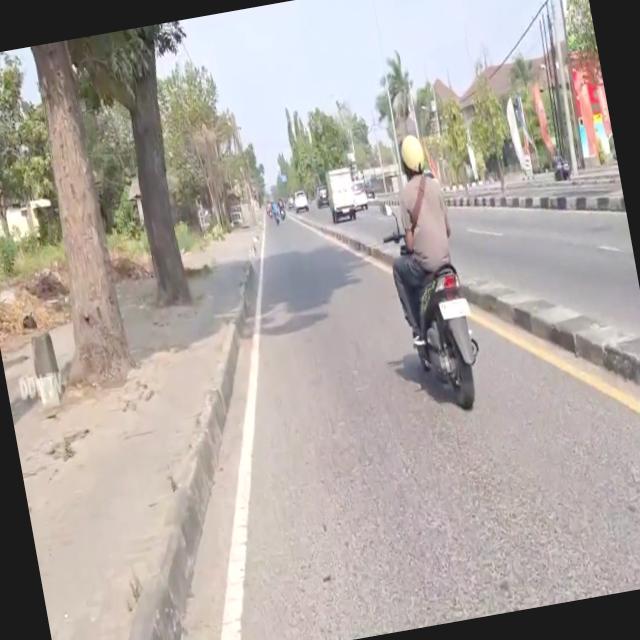WithHelmet: (369, 131, 471, 349)
